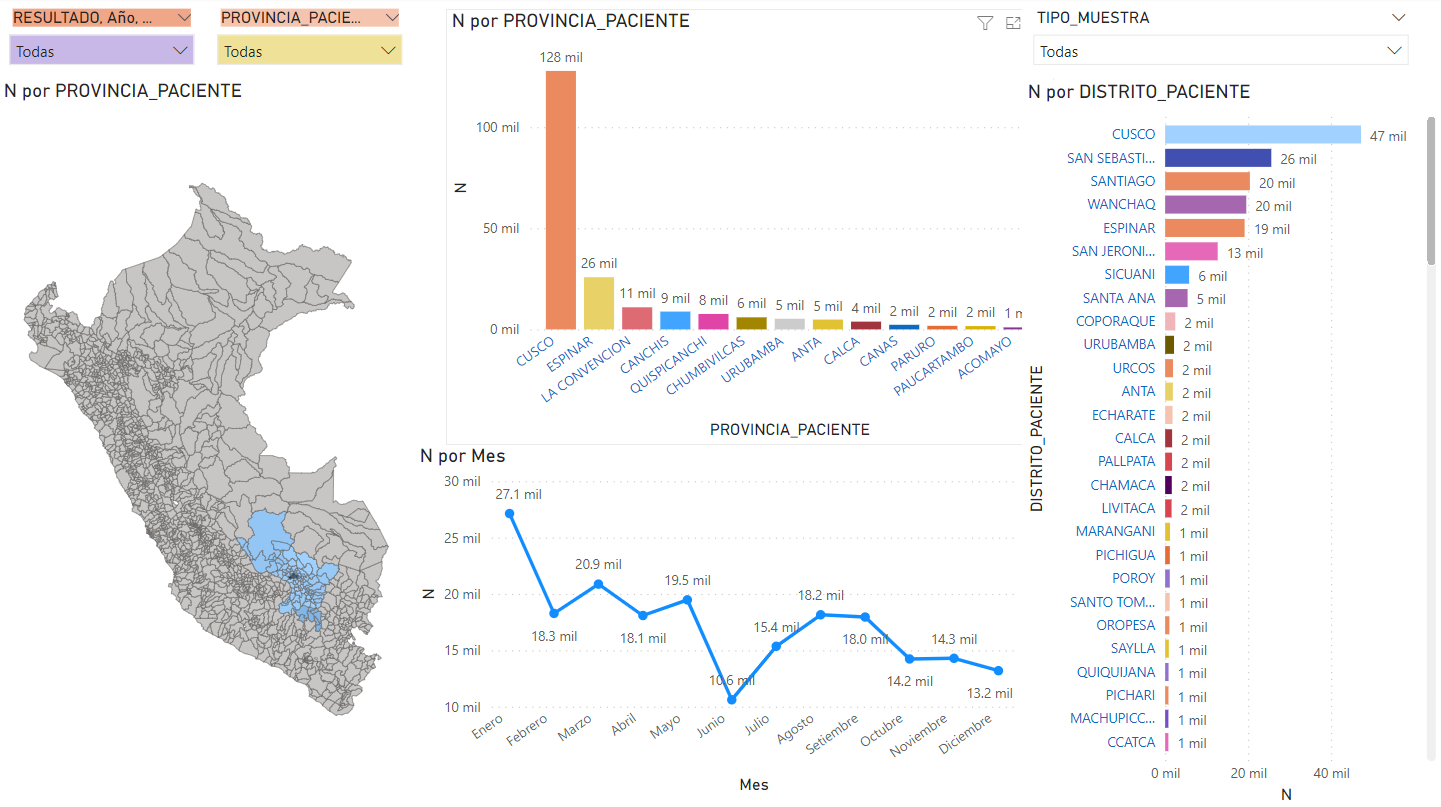

The dashboard page shown, as its layout file describes it:
{"tool":"powerbi","page":{"name":"Página 1","canvas":[1280,720],"ordinal":0},"visuals":[{"type":"shapeMap","fields":{"Value":["Sum(Tabla2.N)"],"Category":["Tabla2.PROVINCIA_PACIENTE"]},"box":[0,72.8,368.9,638.1],"z":0},{"type":"slicer","fields":{"Values":["Tabla2.PROVINCIA_PACIENTE","Tabla2.DISTRITO_PACIENTE","Tabla2.FECHA_MUESTRA.Variación.Jerarquía de fechas.Mes"]},"box":[184.2,5.8,184.2,67.2],"z":1000},{"type":"lineChart","fields":{"Y":["Sum(Tabla2.N)"],"Category":["Tabla2.FECHA_MUESTRA.Variación.Jerarquía de fechas.Mes"]},"box":[368.5,396.3,539.3,314.7],"z":2000},{"type":"columnChart","fields":{"Category":["Tabla2.PROVINCIA_PACIENTE"],"Y":["Sum(Tabla2.N)"]},"box":[396.9,10.5,539.8,386.4],"z":3000},{"type":"slicer","fields":{"Values":["Tabla2.RESULTADO","Tabla2.FECHA_MUESTRA.Variación.Jerarquía de fechas.Año","Tabla2.FECHA_MUESTRA.Variación.Jerarquía de fechas.Mes"]},"box":[0,5.8,184.2,68.1],"z":4000},{"type":"clusteredBarChart","fields":{"Y":["Sum(Tabla2.N)"],"Category":["Tabla2.DISTRITO_PACIENTE"]},"box":[907.8,73.8,372.2,645.7],"z":5000},{"type":"slicer","fields":{"Values":["Tabla2.TIPO_MUESTRA"]},"box":[907.8,5.7,352.9,67],"z":6000}]}

Visuals, with their boxes in screenshot pixels (x1, y1, x2, y2), scaled from the page's 1280x720 canvas onto the 1441x807 screenshot:
shapeMap - Sum(Tabla2.N) x Tabla2.PROVINCIA_PACIENTE: bbox=[0, 82, 415, 797]
slicer - Tabla2.PROVINCIA_PACIENTE x Tabla2.DISTRITO_PACIENTE: bbox=[207, 7, 415, 82]
lineChart - Sum(Tabla2.N) x Tabla2.FECHA_MUESTRA.Variación.Jerarquía de fechas.Mes: bbox=[415, 444, 1022, 797]
columnChart - Tabla2.PROVINCIA_PACIENTE x Sum(Tabla2.N): bbox=[447, 12, 1055, 445]
slicer - Tabla2.RESULTADO x Tabla2.FECHA_MUESTRA.Variación.Jerarquía de fechas.Año: bbox=[0, 7, 207, 83]
clusteredBarChart - Sum(Tabla2.N) x Tabla2.DISTRITO_PACIENTE: bbox=[1022, 83, 1440, 806]
slicer - Tabla2.TIPO_MUESTRA: bbox=[1022, 6, 1419, 81]
